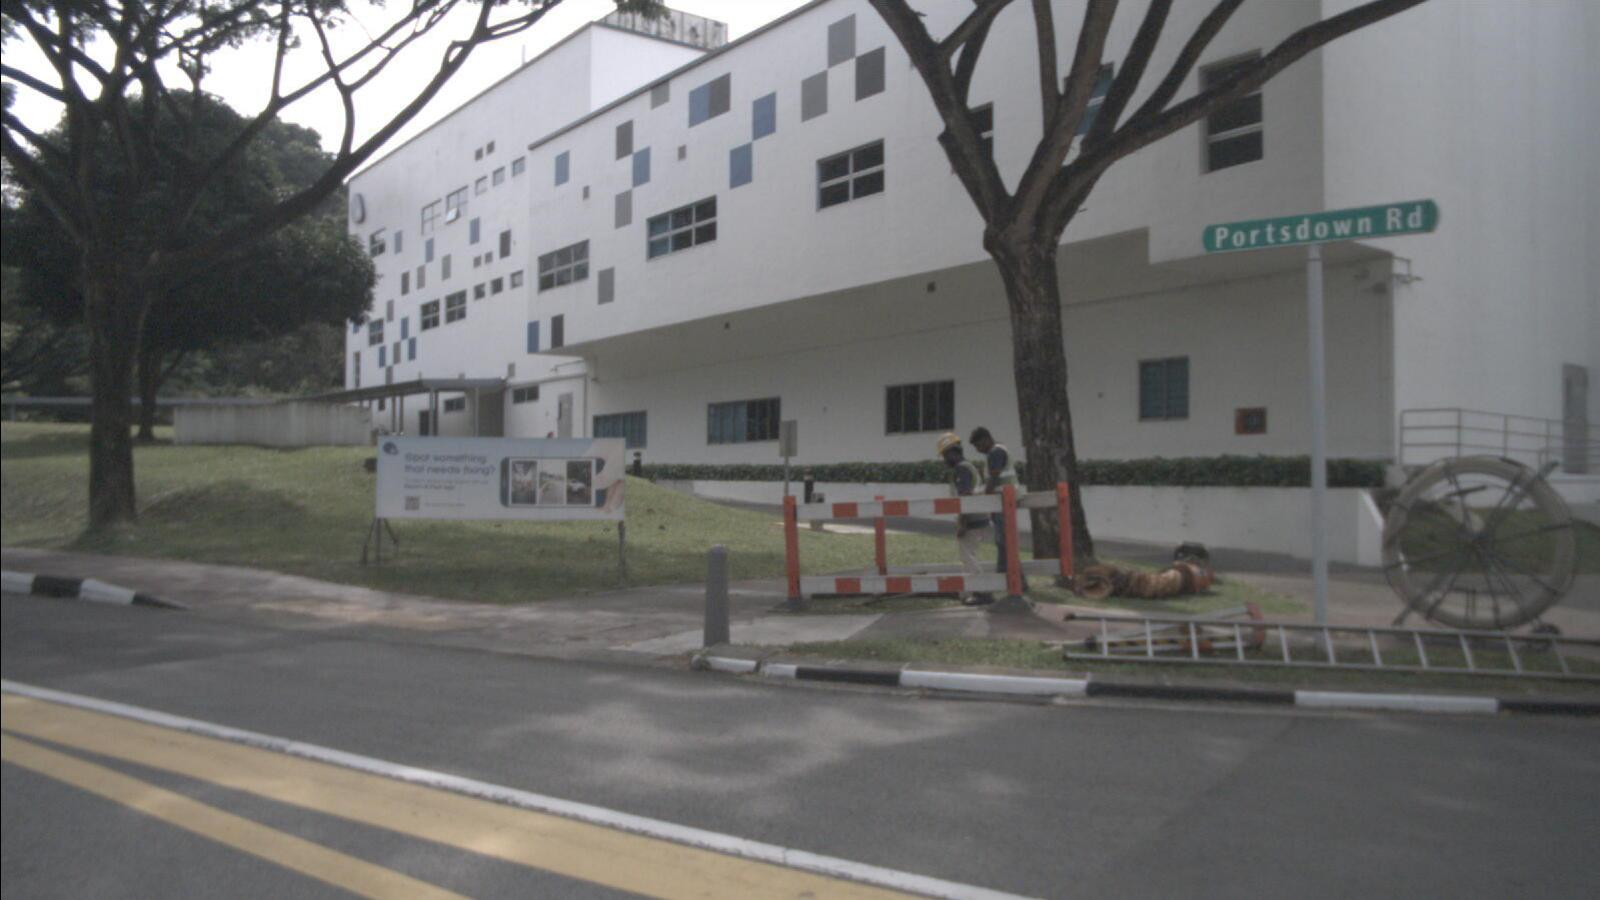human.pedestrian.construction_worker-pedestrian.moving: (934, 431, 994, 608), (967, 427, 1029, 594)
